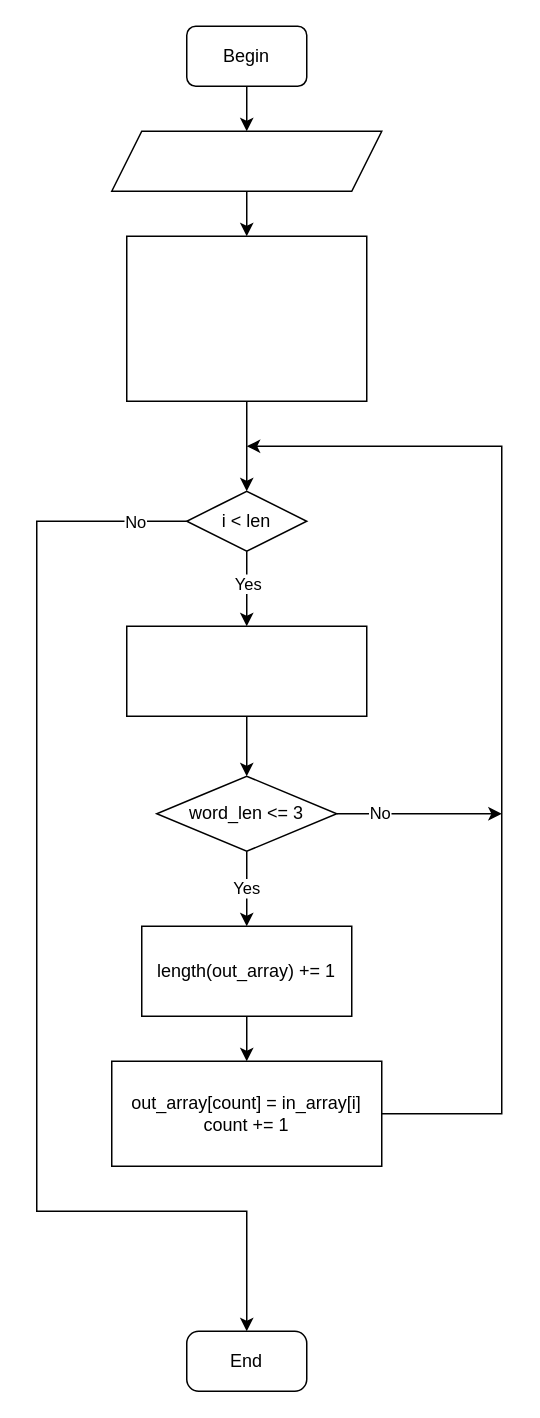
Some shapes in this 540 by 1418 pixel diagram are drawn without their labels. The centre of each missing label's shape, as x and y in pixels:
"int len = length(array) int i=0 out_array = new array int count = 0" goes at (x=246, y=318).
"string in_array = new array" goes at (x=246, y=160).
"word_len = length(array[i])" goes at (x=246, y=670).
